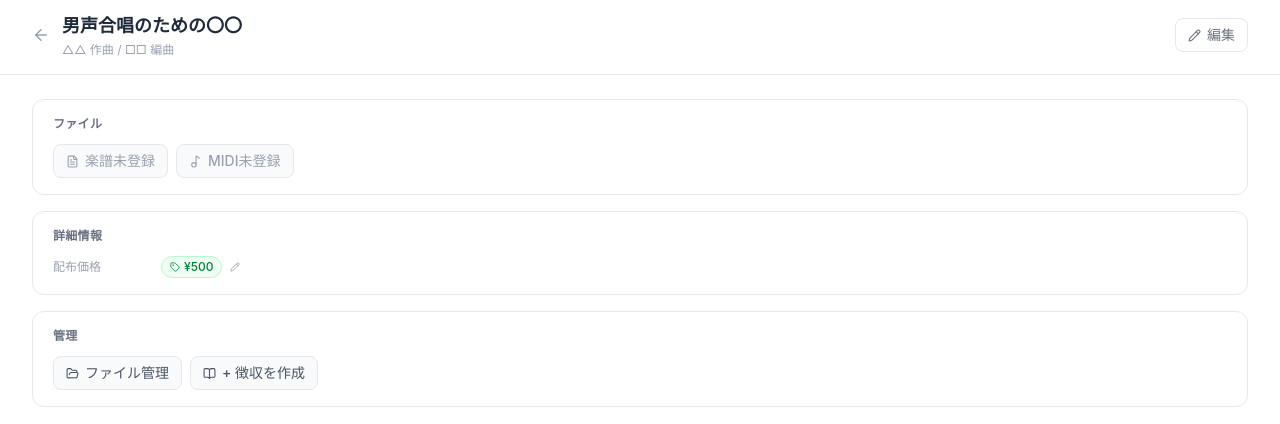
Test case: ScoreDetailPage（配布価格インライン編集） › Escapeキーで編集をキャンセルし、入力欄から離れても保存しない
Click the button named "配布価格を編集" at (235, 267), box [228,260,242,274]
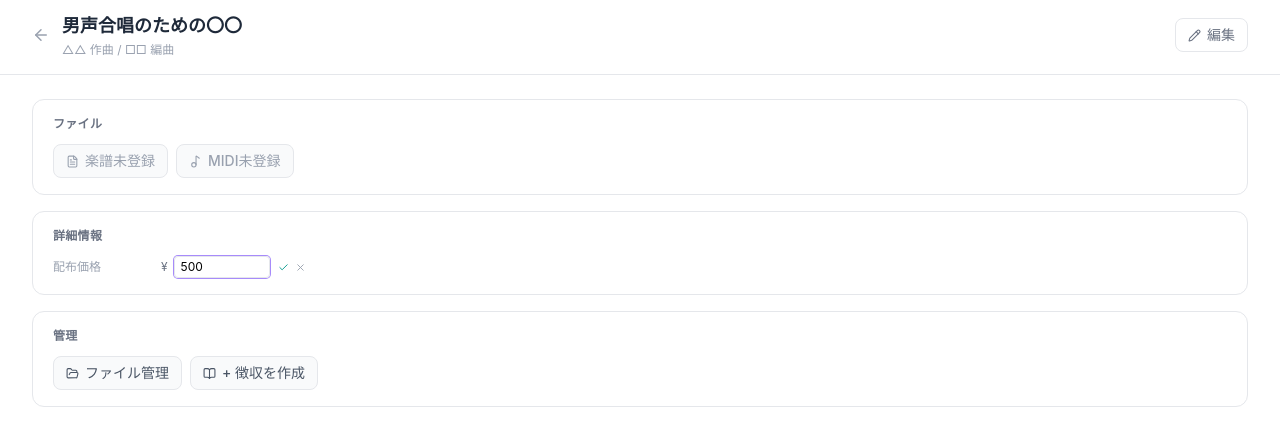
Type "999" into the field named "配布価格" at (222, 267), box [174,256,270,278]
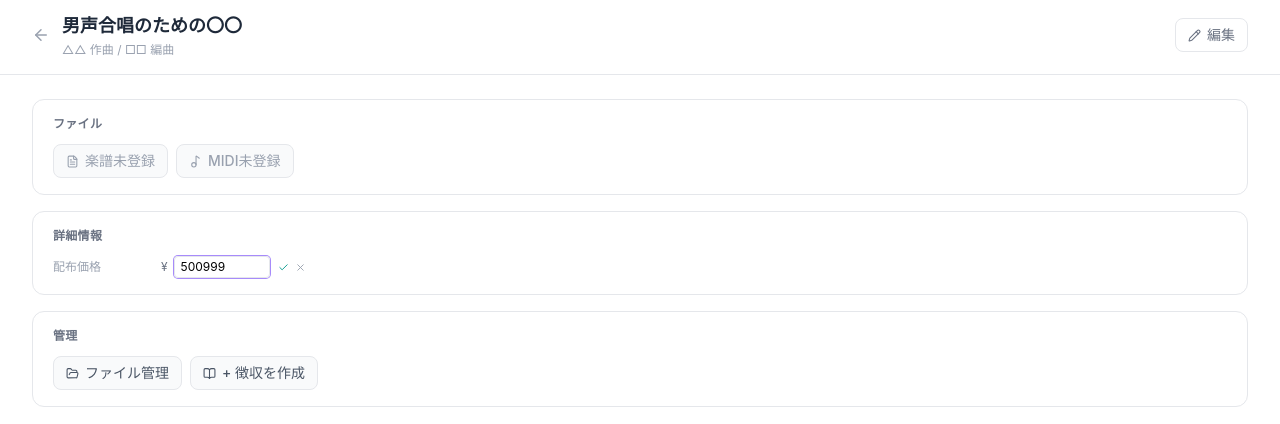
Press Tab
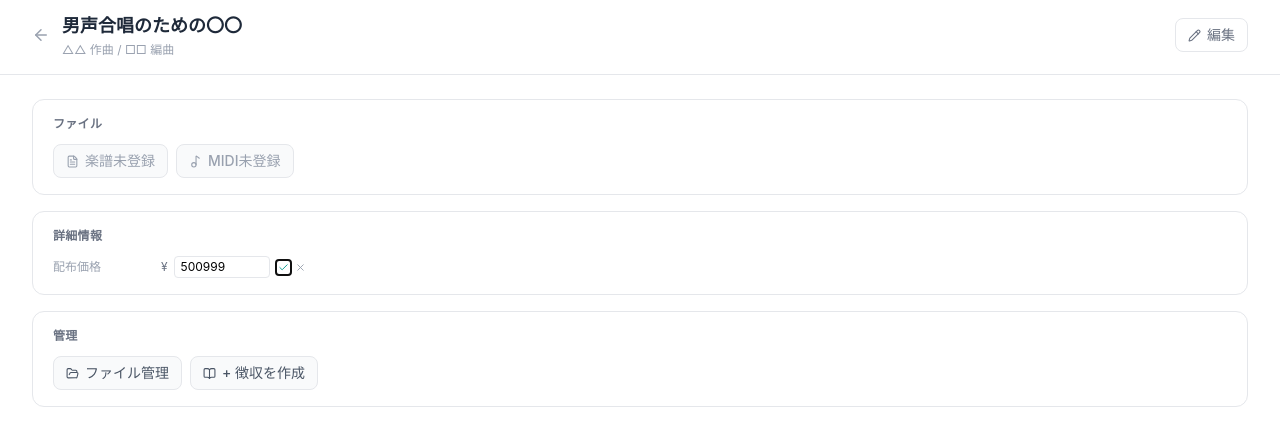
Check: the field named "配布価格" is shown
Click the field named "配布価格" at (222, 267), box [174,256,270,278]
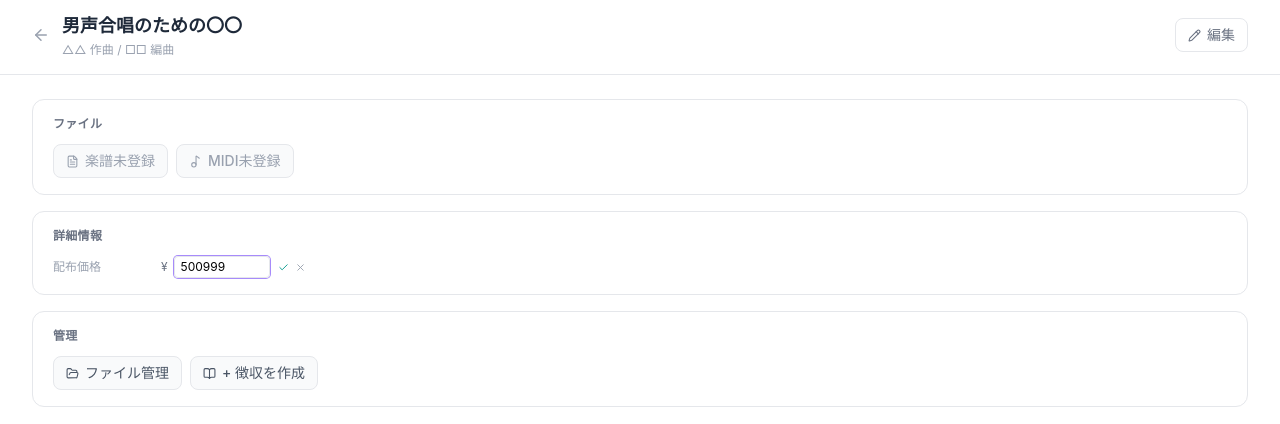
Press Escape
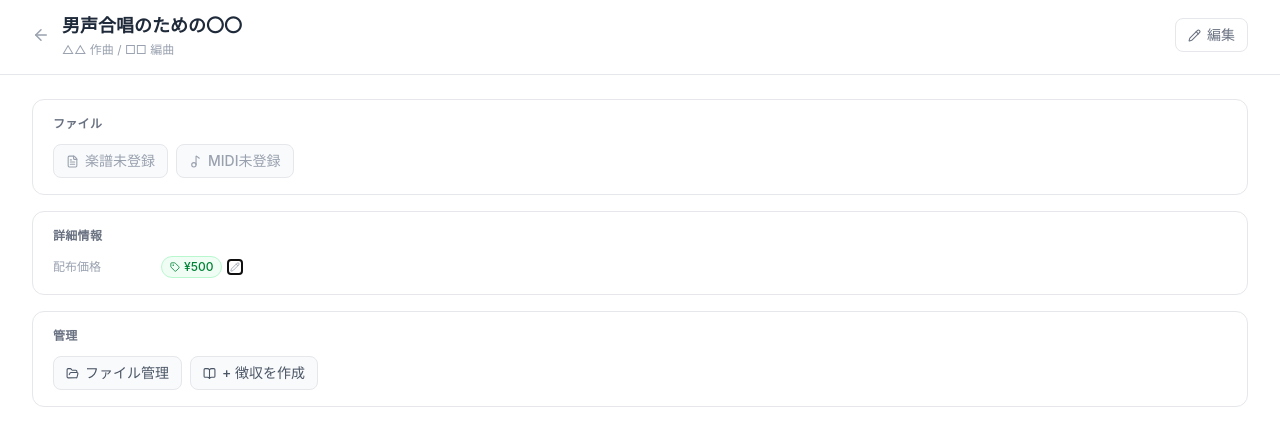
Check: the text "¥500" is shown, box [161,256,222,278]
